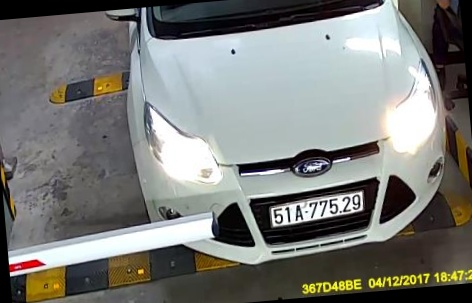plate: (267, 193, 366, 230)
